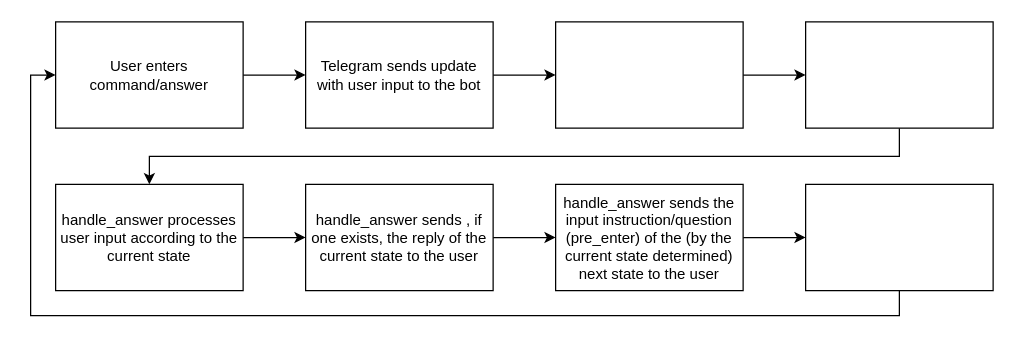
The diagram is 1015 pixels wide and 348 high, and some of its shapes have lost their labels. The box of each missing label's shape, as (x1, y1, x2, y2) in pixels:
handle_answer updates the current state to the next state: (804, 183, 993, 291)
Update triggers the UserProxy handler inside the bot: (554, 21, 743, 128)
UserProxy calls handle_answer of the user's ConvMachine: (804, 21, 993, 128)
